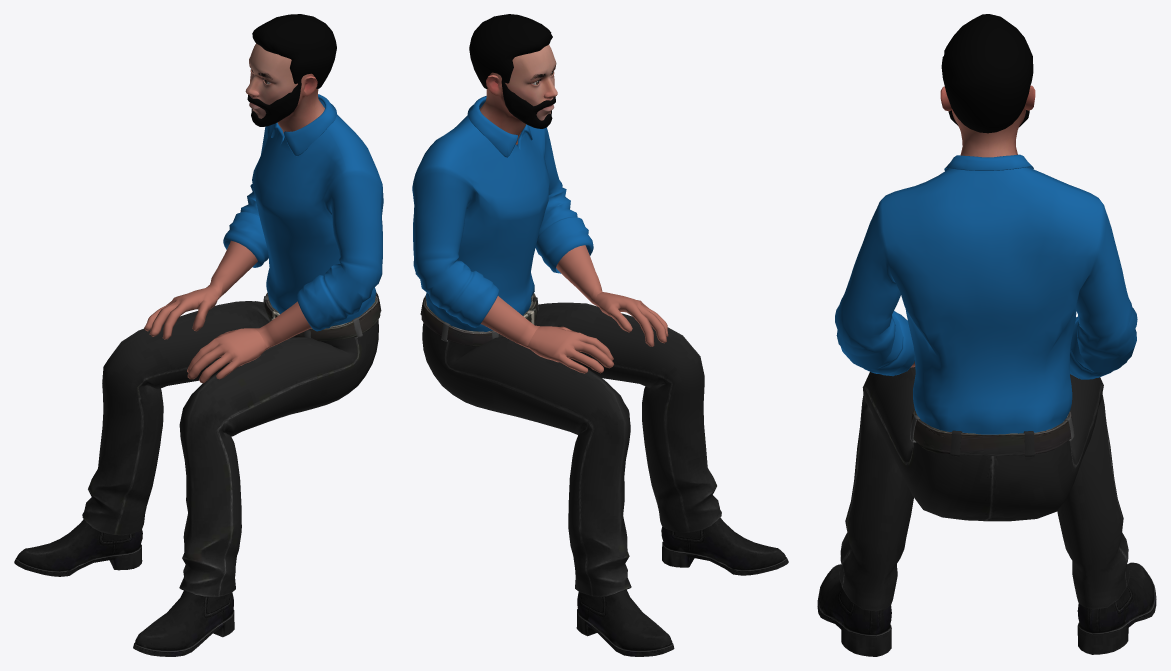
Rendered from BridgeSceneManReflection.gltf.
3 renders of one model, left to right at view 1: azimuth 30°, elevation 25°; view 2: azimuth 150°, elevation 25°; view 3: azimuth 270°, elevation 25°, orthographic. The views are drawn at different scales.
Parts seen in each view (by area): view 1: Object_21, Object_25, Object_23, Object_19, Object_15, Object_11, Object_17; view 2: Object_21, Object_25, Object_23, Object_19, Object_15, Object_11, Object_17; view 3: Object_25, Object_21, Object_15, Object_23, Object_11.
Boxes of the visible parts, left/top/right/bottom form: Object_21: left=82, top=292, right=381, bottom=596; Object_25: left=223, top=94, right=383, bottom=331; Object_23: left=14, top=519, right=234, bottom=656; Object_19: left=144, top=240, right=311, bottom=383; Object_15: left=252, top=14, right=336, bottom=88; Object_11: left=245, top=43, right=324, bottom=133; Object_17: left=247, top=80, right=301, bottom=126; Object_21: left=420, top=293, right=721, bottom=597; Object_25: left=412, top=96, right=593, bottom=331; Object_23: left=576, top=517, right=788, bottom=656; Object_19: left=481, top=245, right=668, bottom=373; Object_15: left=469, top=14, right=552, bottom=88; Object_11: left=479, top=44, right=557, bottom=144; Object_17: left=501, top=79, right=555, bottom=128; Object_25: left=835, top=154, right=1137, bottom=434; Object_21: left=839, top=367, right=1129, bottom=611; Object_15: left=941, top=14, right=1033, bottom=133; Object_23: left=817, top=562, right=1156, bottom=656; Object_11: left=940, top=85, right=1035, bottom=157.
Size of the model in its own units: 10.86 by 19.25 by 8.48.
8 materials, 8 textured.
